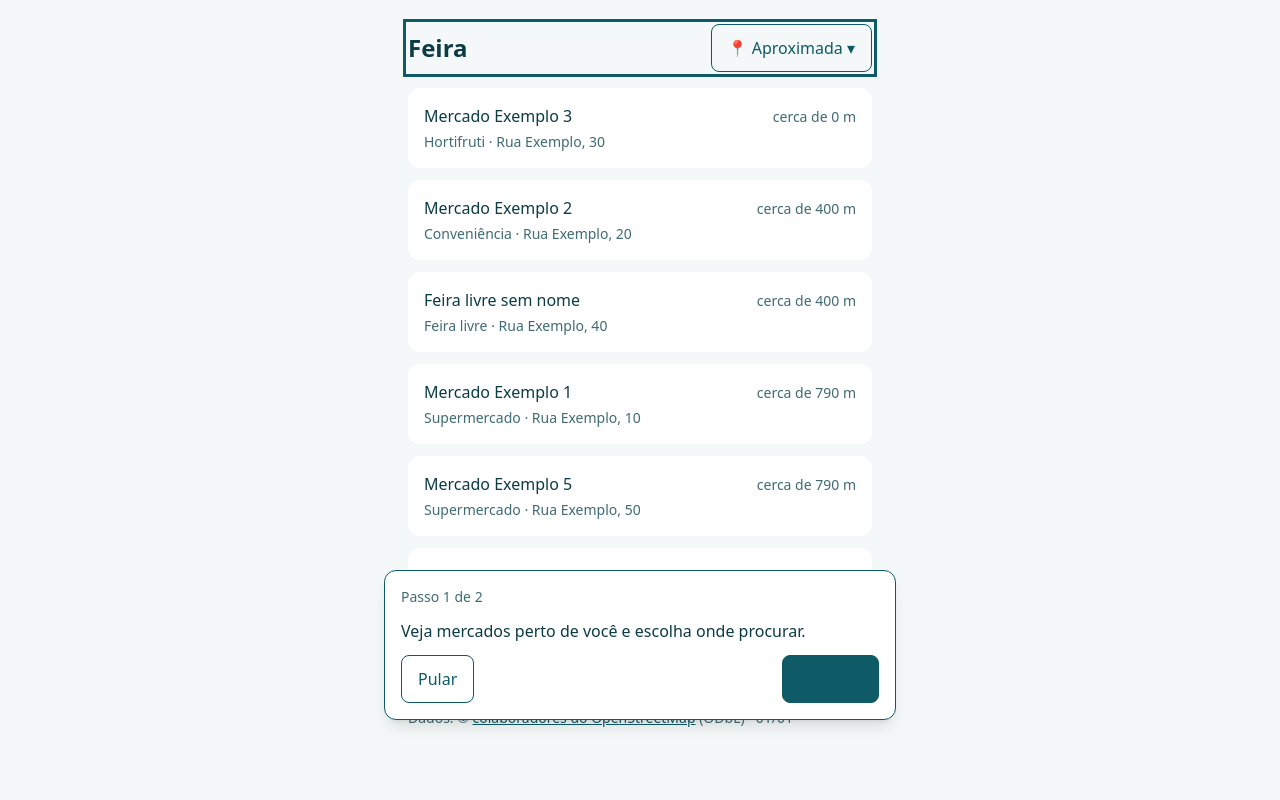
Test: FeiraPage tour › viewerTourAsksForNothingTheyCannotDo
Expected: the text "Passo 1 de 2" is shown, [401,587,483,606]
Step 1. Click the button "Próximo" → [831, 679], box [782,655,879,703]
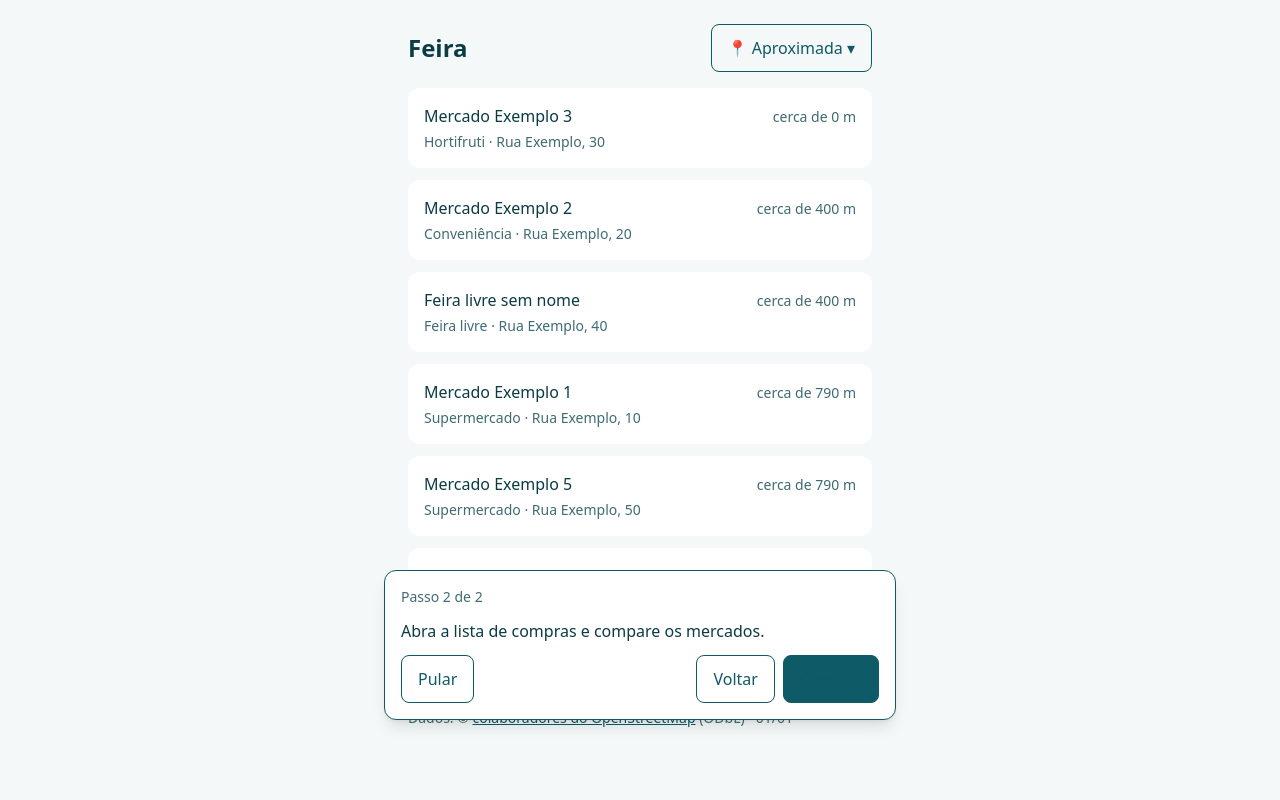
Now the dialog shows "Passo 2 de 2", box [401,587,483,606]
